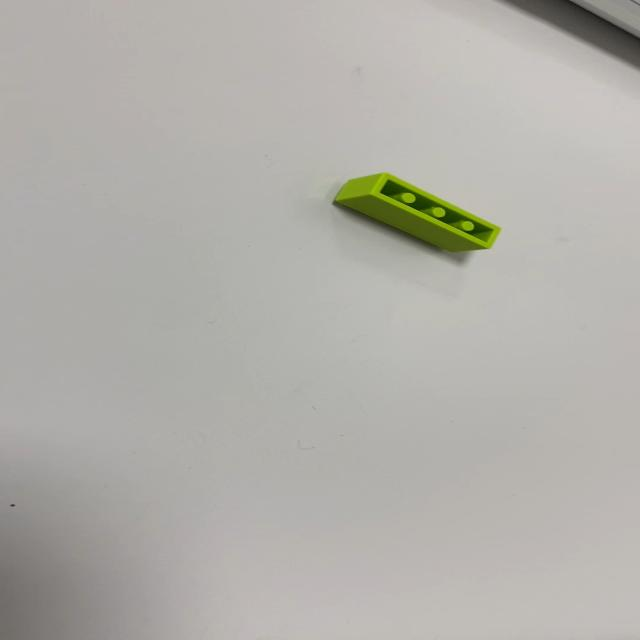C4x1x1: (332, 171, 501, 253)
